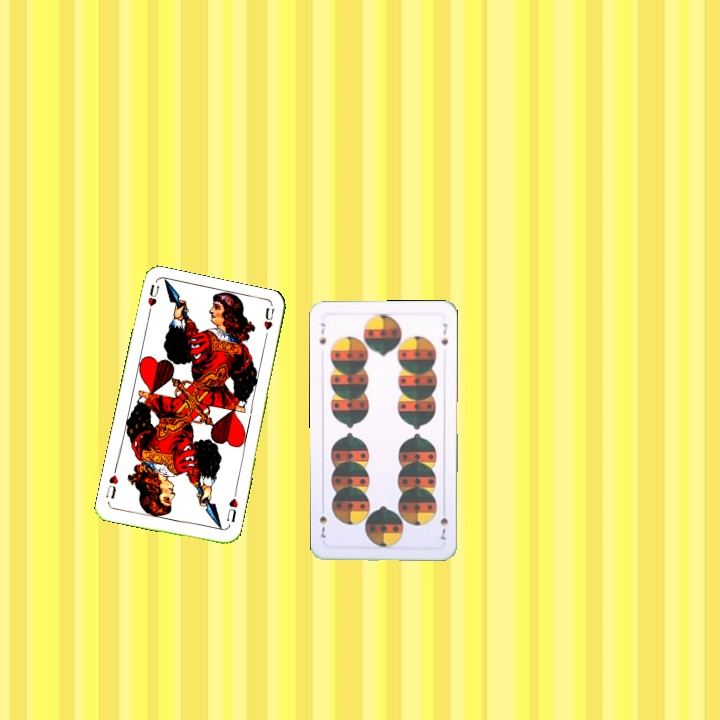HU: (143, 280, 162, 320), (223, 494, 241, 524)
S7: (436, 504, 451, 542), (316, 319, 329, 347)
